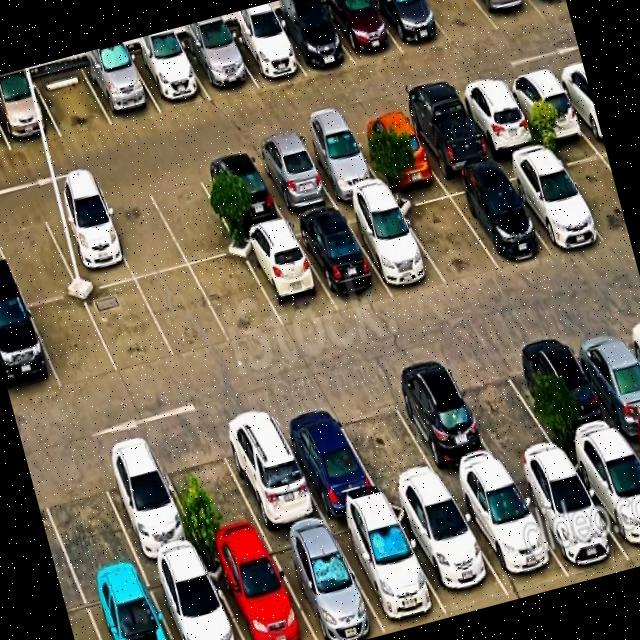empty: (44, 472, 138, 599), (171, 447, 257, 564), (347, 402, 435, 512), (408, 188, 489, 289), (106, 177, 180, 281), (34, 294, 112, 391), (86, 273, 162, 372), (158, 162, 232, 260), (196, 246, 268, 342), (0, 215, 71, 308), (143, 261, 214, 351), (36, 52, 106, 142), (414, 0, 482, 41)
occupied: (225, 433, 318, 554), (410, 496, 500, 620), (469, 478, 557, 604), (346, 511, 432, 637), (532, 461, 616, 586), (109, 467, 199, 582), (282, 528, 374, 640), (401, 376, 488, 494), (295, 420, 377, 540), (522, 336, 603, 454), (462, 360, 544, 474), (520, 149, 600, 264), (215, 546, 308, 640), (358, 194, 437, 302), (466, 166, 542, 274), (46, 188, 126, 290), (414, 88, 489, 195), (358, 96, 432, 204), (306, 205, 380, 312), (246, 227, 324, 326), (200, 147, 278, 243), (514, 62, 586, 166), (466, 77, 538, 181), (587, 443, 640, 571), (580, 327, 640, 438), (306, 120, 376, 214), (84, 39, 154, 131), (156, 567, 242, 640), (260, 134, 326, 223), (232, 0, 296, 90), (134, 26, 200, 113), (184, 13, 249, 99), (87, 584, 182, 640), (277, 0, 345, 77), (0, 308, 53, 401), (326, 0, 392, 64), (0, 66, 50, 147), (374, 0, 437, 51), (457, 0, 523, 22)
